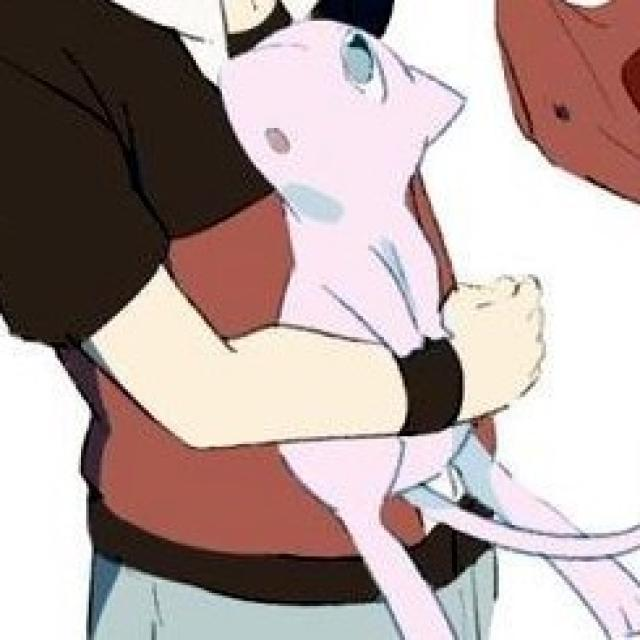Mew: (222, 19, 464, 501)
